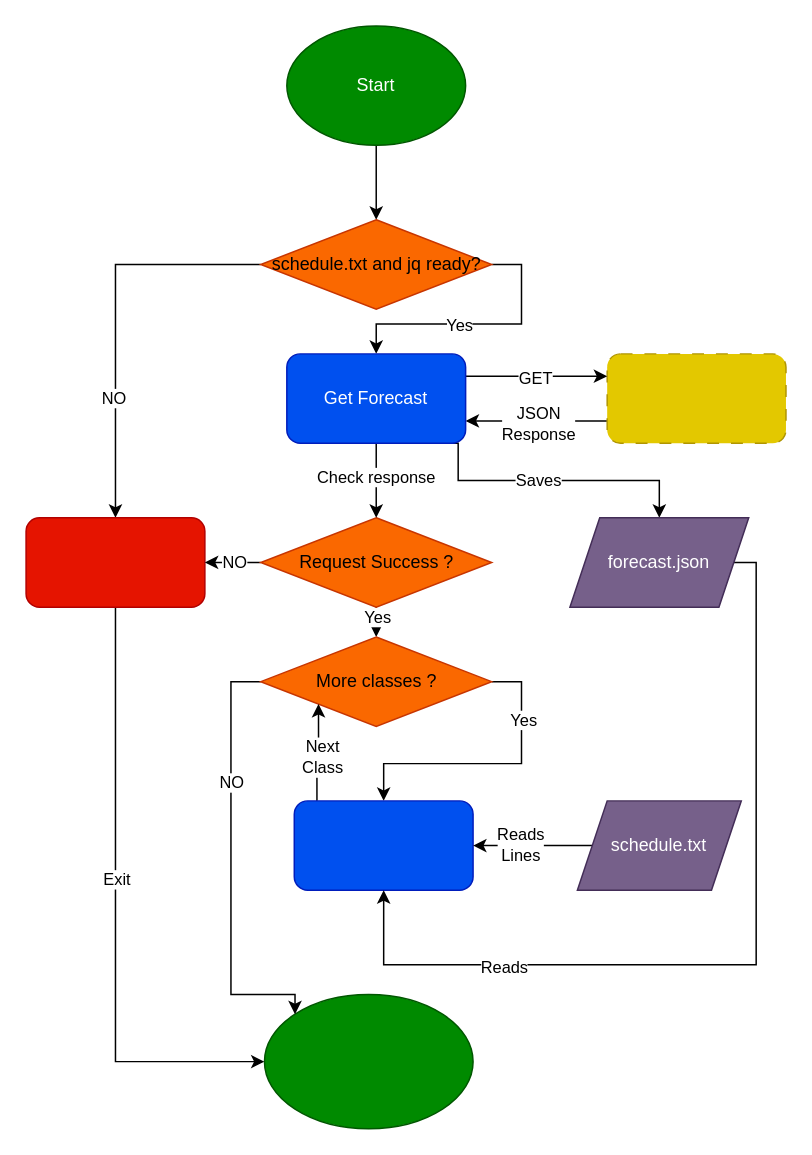
This 812x1155 diagram has some shape labels left out. Each missing label, with the centre of its shape:
Display Error: point 115,561
End: point 368,1061
Look up weather & print what to bring: point 383,844
NWS API: point 696,397
